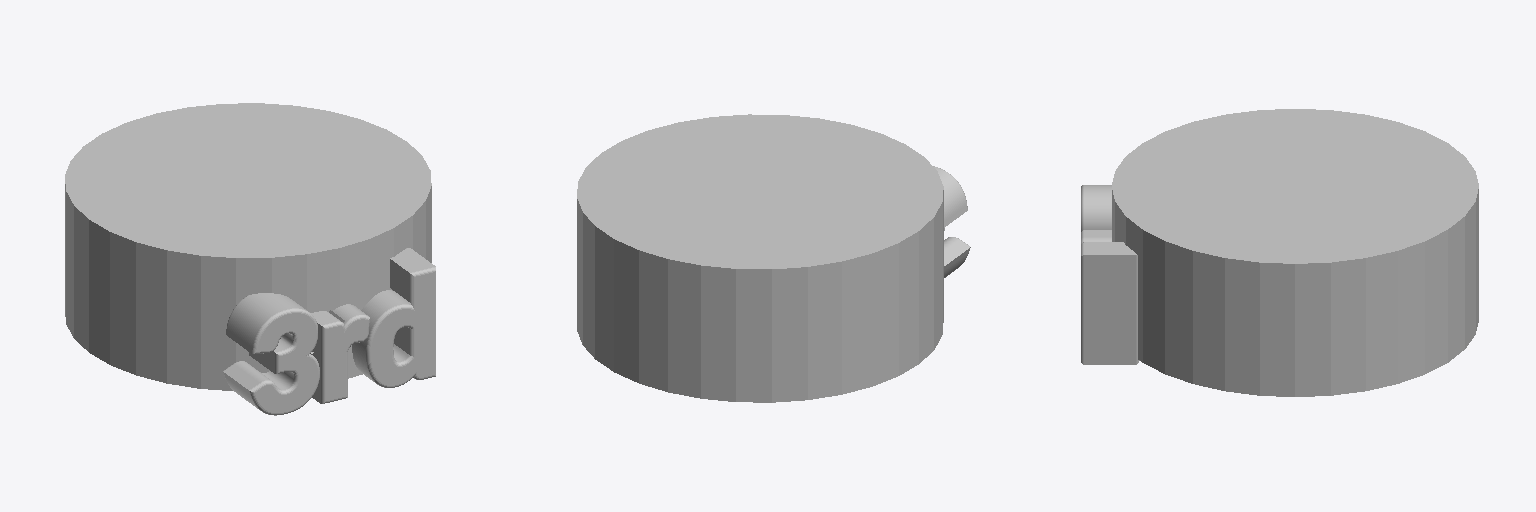
The model's file is third.obj.
The picture shows the model from 3 angles: view 1: azimuth 30°, elevation 25°; view 2: azimuth 150°, elevation 25°; view 3: azimuth 270°, elevation 25°; orthographic projection.
Visible parts, largest first — view 1: Cylinder.002, Text.003; view 2: Cylinder.002, Text.003; view 3: Cylinder.002, Text.003.
Part boxes in pixels (left/top/right/bottom): Cylinder.002: left=65, top=103, right=431, bottom=390; Text.003: left=223, top=248, right=435, bottom=415; Cylinder.002: left=577, top=114, right=943, bottom=402; Text.003: left=933, top=166, right=970, bottom=277; Cylinder.002: left=1112, top=109, right=1478, bottom=396; Text.003: left=1081, top=185, right=1139, bottom=364.
Bounding box in the file's own units: 2 × 0.8362 × 2.17.